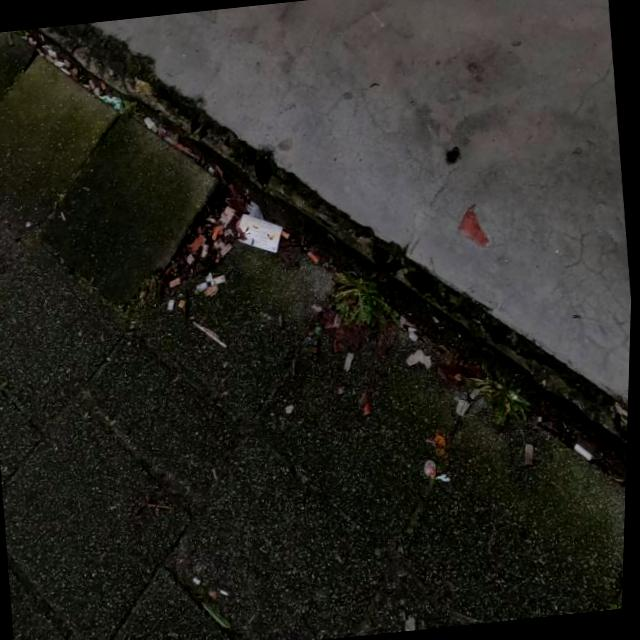Paper: (230, 202, 290, 255)
